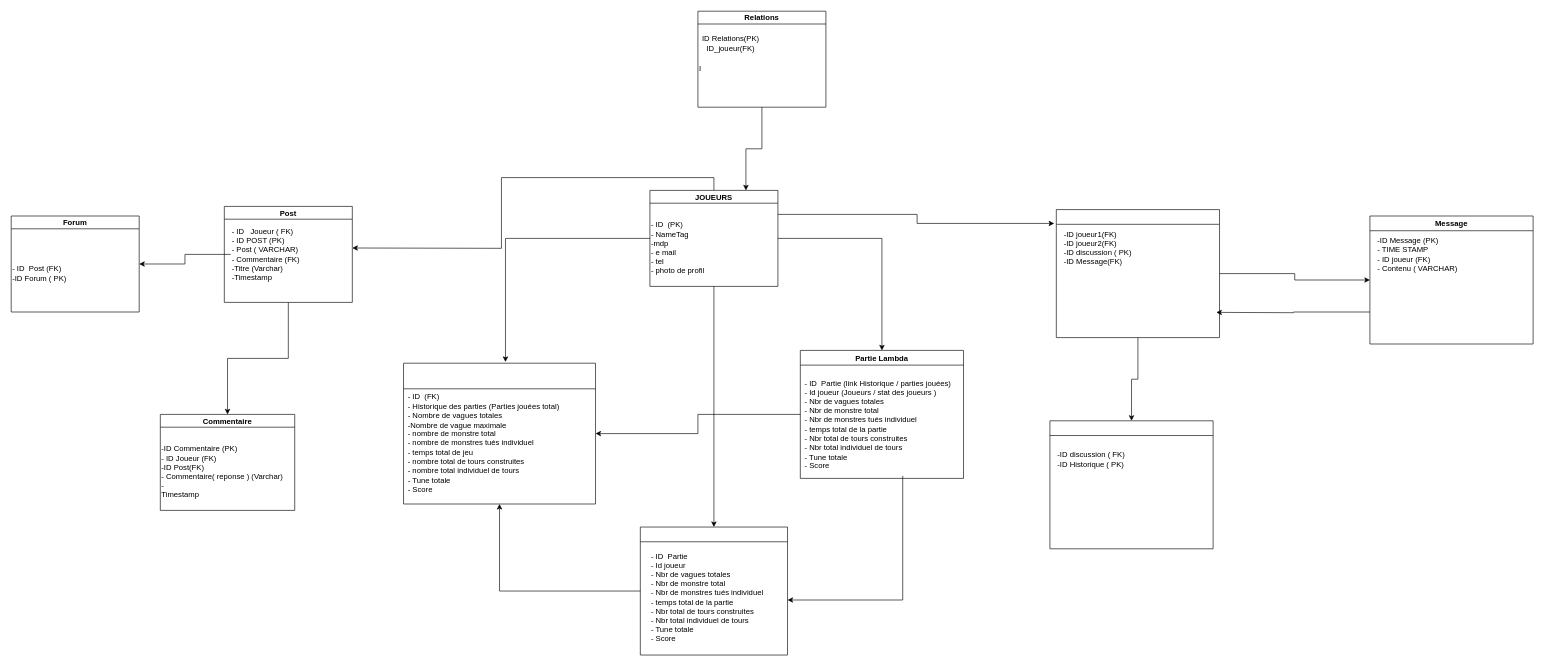
Some shapes in this 1544 by 666 pixel diagram are drawn without their labels. Here are the shapes that lost their labels. From the top down, the box of each, then its label:
(1056, 209, 1220, 338): Discussion MP(
(403, 363, 596, 504): Statistiques du joueur (Addition de partie Lamda)
(1049, 420, 1213, 549): Discussion Historique
(640, 526, 788, 655): Historique des Parties
